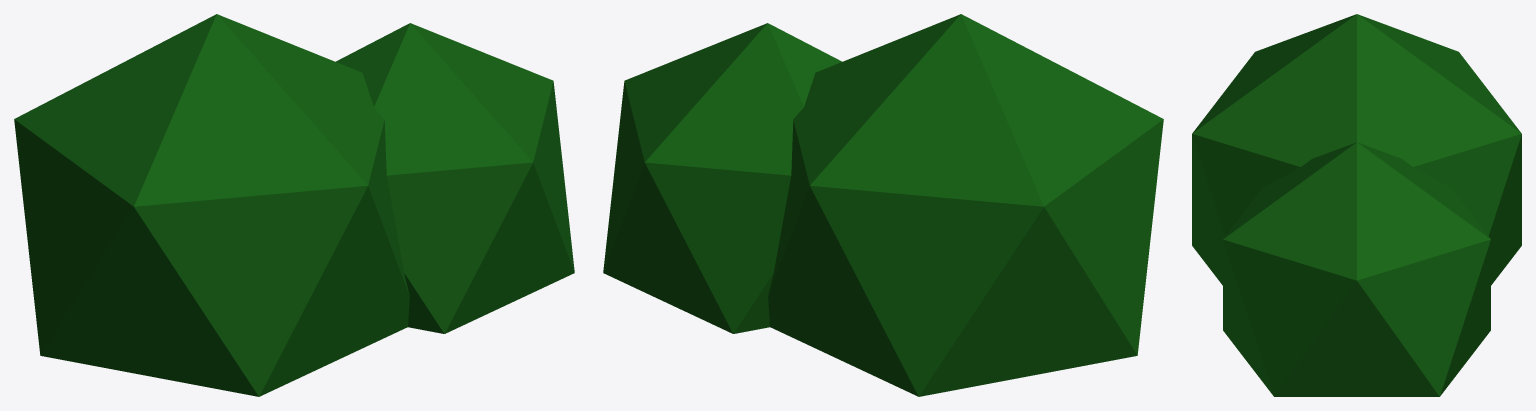
Rendered from Bush.fbx.
The picture shows the model from 3 angles, left to right: view 1: azimuth 30°, elevation 25°; view 2: azimuth 150°, elevation 25°; view 3: azimuth 270°, elevation 25°; orthographic projection. The views are drawn at different scales.
Visible parts, largest first — view 1: Icosphere; view 2: Icosphere; view 3: Icosphere.
Part boxes in pixels (left/top/right/bottom): Icosphere: left=14, top=14, right=574, bottom=396; Icosphere: left=603, top=14, right=1163, bottom=396; Icosphere: left=1192, top=14, right=1521, bottom=396.
Size of the model in its own units: 2.08 by 1.16 by 1.36.
